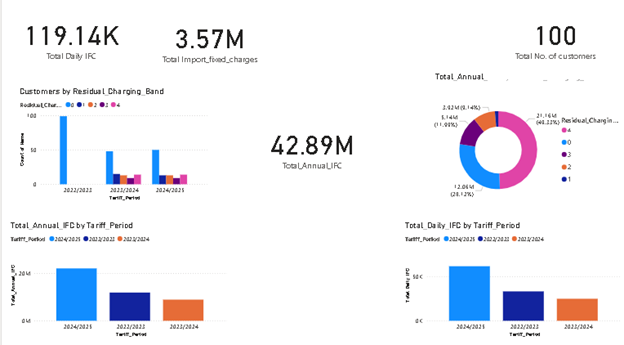

The dashboard page shown, as its layout file describes it:
{"tool":"powerbi","page":{"name":"SEPN TARIFF - 1","canvas":[1280,720],"ordinal":0},"visuals":[{"type":"card","fields":{"Values":["Sum(sepn_charges_2022_2023_2024.Import_fixed_charge)","select","select1"]},"box":[288.2,0,279.9,140],"z":0},{"type":"donutChart","fields":{"Category":["sepn_charges_2022_2023_2024.Residual_Charging_Band"],"Y":["sepn_charges_2022_2023_2024.Total_Annual_IFC","select"]},"box":[779.4,156.4,500.9,279.9],"z":1000},{"type":"card","fields":{"Values":["sepn_charges_2022_2023_2024.Total_Annual_IFC"]},"box":[498.9,225.1,280.5,174.7],"z":2000},{"type":"columnChart","title":"Total_Annual_IFC by Tariff_Period","fields":{"Category":["sepn_charges_2022_2023_2024.Tariff_Period"],"Y":["sepn_charges_2022_2023_2024.Total_Annual_IFC"],"Series":["sepn_charges_2022_2023_2024.Tariff_Period"]},"box":[13.7,462.4,625.7,244.3],"z":3000},{"type":"card","fields":{"Values":["Count(sepn_charges_2022_2023_2024.Name)"]},"box":[942.7,0,281.3,140],"z":4000},{"type":"card","fields":{"Values":["sepn_charges_2022_2023_2024.Total Daily IFC"]},"box":[0,0,288.2,140],"z":5000},{"type":"clusteredColumnChart","title":"Customers by Residual_Charging_Band","fields":{"Y":["CountNonNull(sepn_charges_2022_2023_2024.Name)"],"Category":["sepn_charges_2022_2023_2024.Tariff_Period"],"Series":["sepn_charges_2022_2023_2024.Residual_Charging_Band"]},"box":[31.6,156.4,522.8,270.3],"z":6000},{"type":"columnChart","title":"Total_Daily_IFC by Tariff_Period","fields":{"Category":["sepn_charges_2022_2023_2024.Tariff_Period"],"Series":["sepn_charges_2022_2023_2024.Tariff_Period"],"Y":["sepn_charges_2022_2023_2024.Total Daily IFC"]},"box":[639.5,462.4,640.8,244.3],"z":7000}]}

Visuals, with their boxes in screenshot pixels (x1, y1, x2, y2), scaled from the page's 1280x720 canvas onto the 624x345 screenshot:
card - Sum(sepn_charges_2022_2023_2024.Import_fixed_charge) x select: bbox=[140, 0, 277, 67]
donutChart - sepn_charges_2022_2023_2024.Residual_Charging_Band x sepn_charges_2022_2023_2024.Total_Annual_IFC: bbox=[380, 75, 623, 209]
card - sepn_charges_2022_2023_2024.Total_Annual_IFC: bbox=[243, 108, 380, 192]
"Total_Annual_IFC by Tariff_Period" columnChart: bbox=[7, 222, 312, 339]
card - Count(sepn_charges_2022_2023_2024.Name): bbox=[460, 0, 597, 67]
card - sepn_charges_2022_2023_2024.Total Daily IFC: bbox=[0, 0, 140, 67]
"Customers by Residual_Charging_Band" clusteredColumnChart: bbox=[15, 75, 270, 204]
"Total_Daily_IFC by Tariff_Period" columnChart: bbox=[312, 222, 623, 339]
